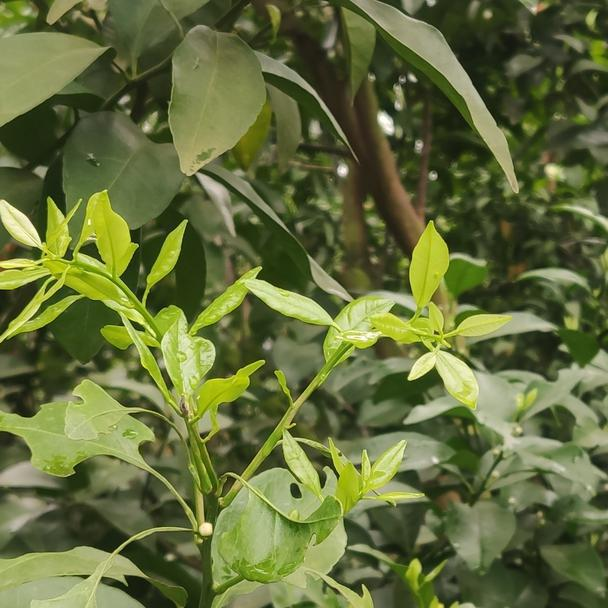shoot: (2, 191, 226, 410), (250, 236, 504, 425)
